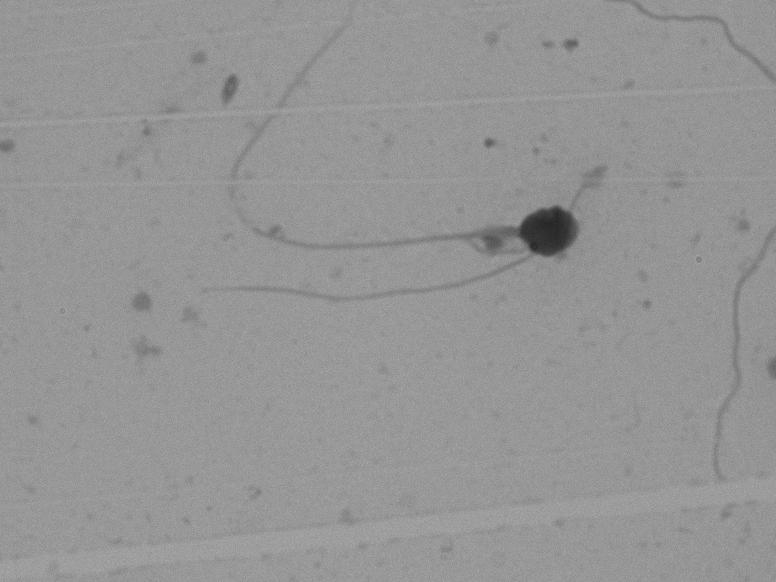Abnormal: (157, 15, 610, 308)
